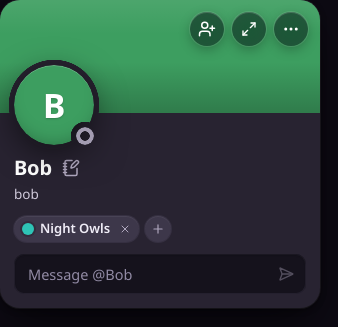
the profile popout's roles › lets someone who may manage roles take one off with its x and give another with the +
Expected: the list with test id "profile-roles" reads "Night Owls", [40, 219, 110, 237]
Note: their own role and the ones above it cannot be given from here
Click the button with test id "role-add" at {"x": 158, "y": 229}, box [145, 216, 171, 242]
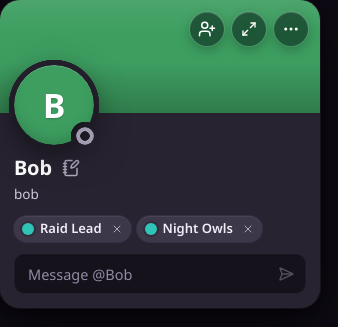
Now the list with test id "profile-roles" shows "Raid Lead", box [40, 219, 102, 237]
Click the button named "Remove Night Owls" at {"x": 248, "y": 229}, box [240, 221, 256, 237]
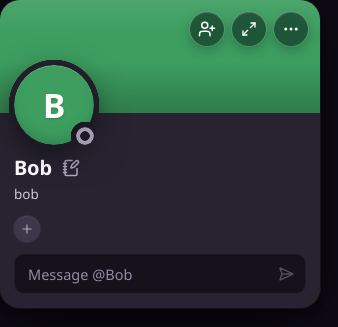
Now the text with test id "profile-roles" no longer shows "Night Owls"
